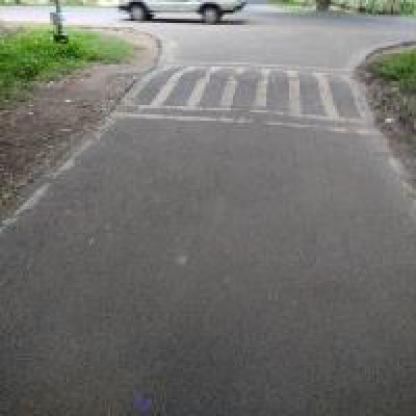Speed Bump: (121, 60, 376, 136)
